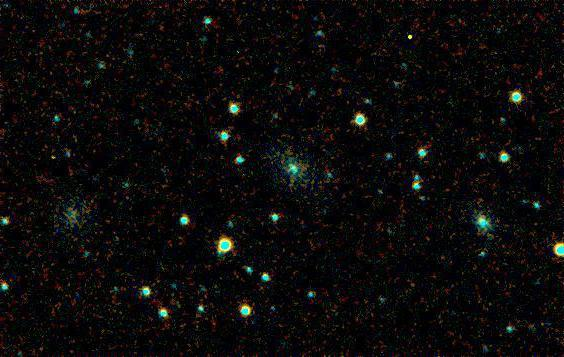star: (395, 21, 425, 51)
